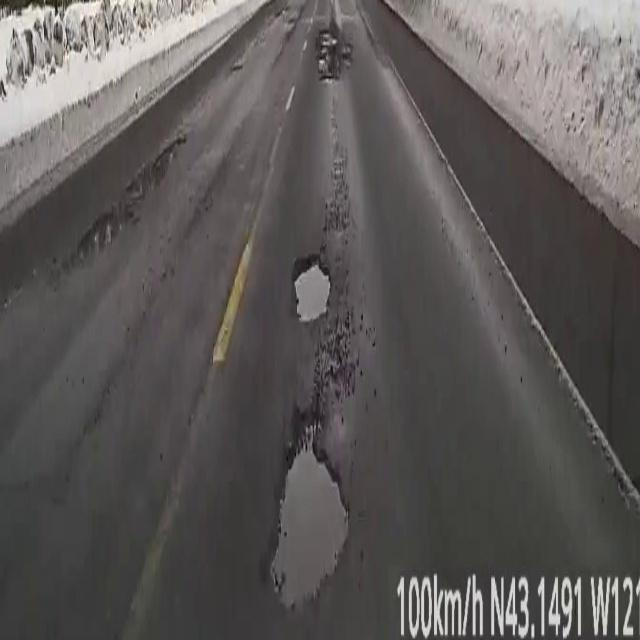pothole: (253, 409, 354, 617), (58, 134, 188, 276), (294, 262, 331, 320), (317, 27, 351, 81)
